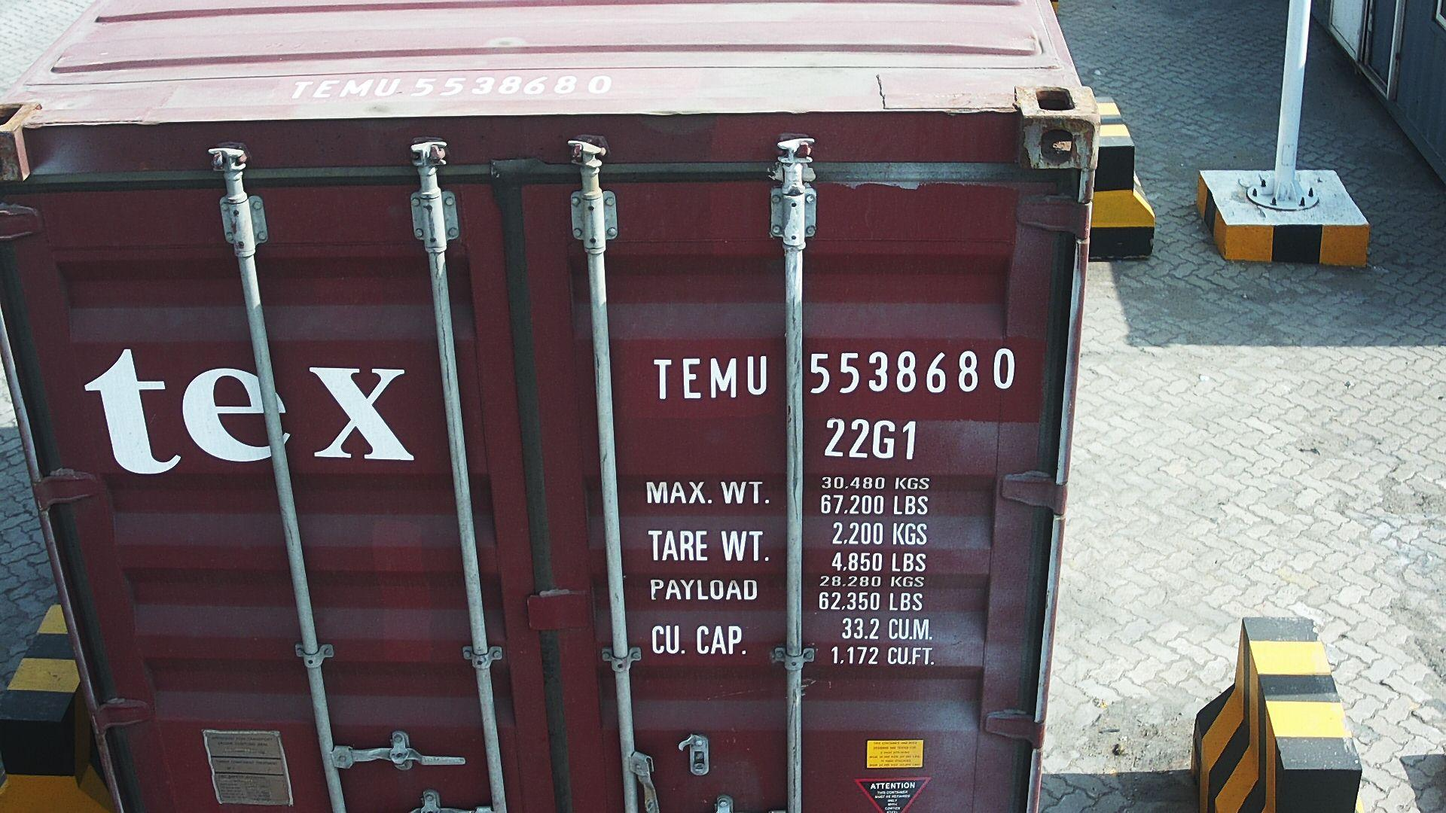container-numbers: (651, 346, 1024, 402), (283, 72, 621, 101), (820, 416, 920, 463)
